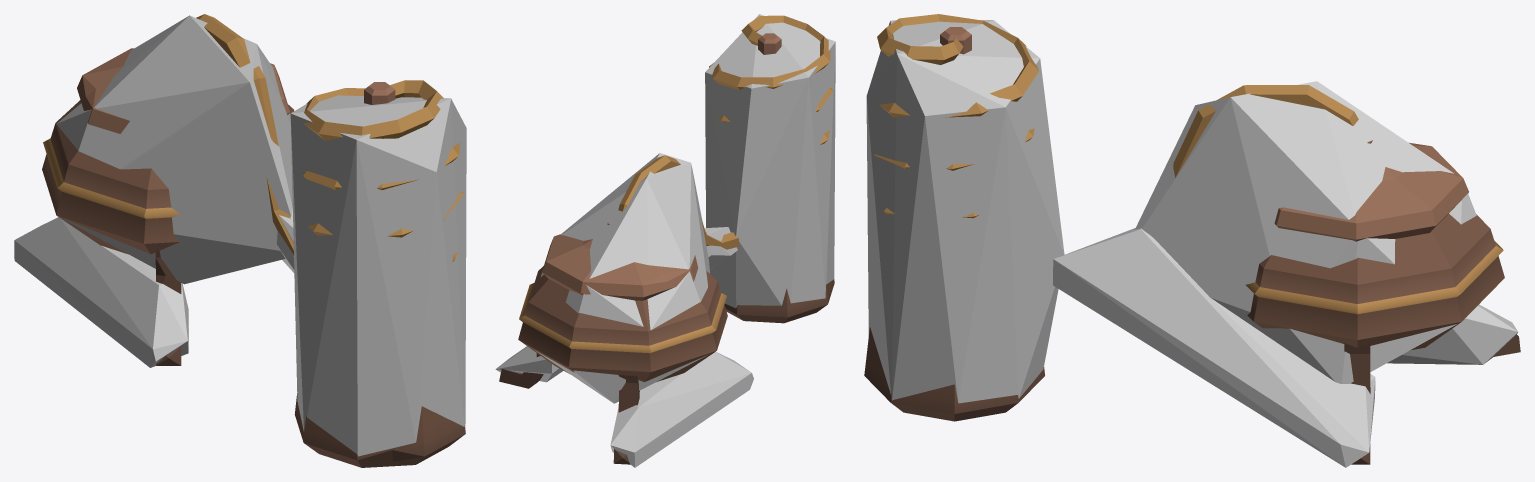
Rendered from SM_Prop_Distiller_01.fbx.
The picture shows the model from 3 angles, left to right: view 1: azimuth 30°, elevation 25°; view 2: azimuth 150°, elevation 25°; view 3: azimuth 270°, elevation 25°; orthographic projection. The views are drawn at different scales.
Parts seen in each view (by area): view 1: SM_Prop_Distiller_01_ConvexHulls, SM_Prop_Distiller_01; view 2: SM_Prop_Distiller_01_ConvexHulls, SM_Prop_Distiller_01; view 3: SM_Prop_Distiller_01_ConvexHulls, SM_Prop_Distiller_01.
Part boxes in pixels (box(x1,y1,x2,y2)): SM_Prop_Distiller_01_ConvexHulls: box(14, 15, 466, 456); SM_Prop_Distiller_01: box(42, 14, 465, 467); SM_Prop_Distiller_01_ConvexHulls: box(495, 14, 835, 467); SM_Prop_Distiller_01: box(499, 15, 834, 464); SM_Prop_Distiller_01_ConvexHulls: box(866, 20, 1517, 467); SM_Prop_Distiller_01: box(864, 14, 1520, 464).
Size of the model in its own units: 56.62 by 109 by 66.45.
2 materials, 1 textured.
